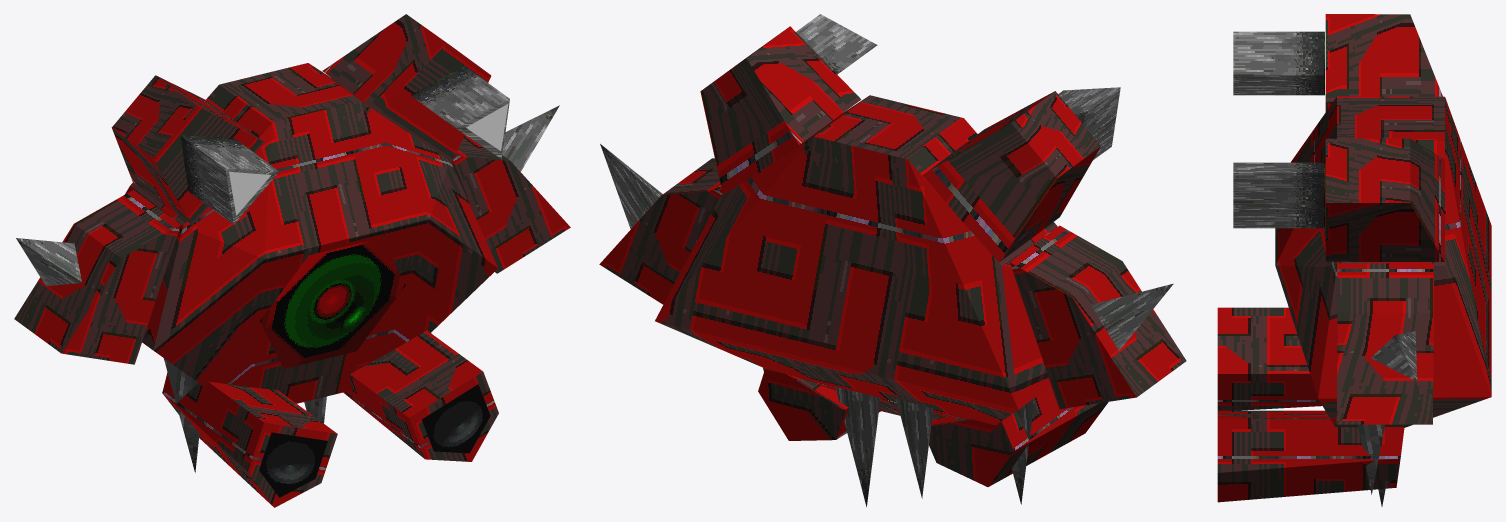
File: model_039_robot_boss.glb
3 views of the same model, side by side, from view 1: azimuth 30°, elevation 25°; view 2: azimuth 150°, elevation 25°; view 3: azimuth 270°, elevation 25° (orthographic). The views are drawn at different scales.
Visible parts, largest first — view 1: model_039; view 2: model_039; view 3: model_039.
Boxes of the visible parts, x1=… form: model_039: x1=14, y1=14, x2=570, y2=507; model_039: x1=599, y1=14, x2=1186, y2=506; model_039: x1=1217, y1=14, x2=1491, y2=506.
Size of the model in its own units: 39.91 by 28.86 by 17.27.
Materials: 5 (4 with a texture image).
